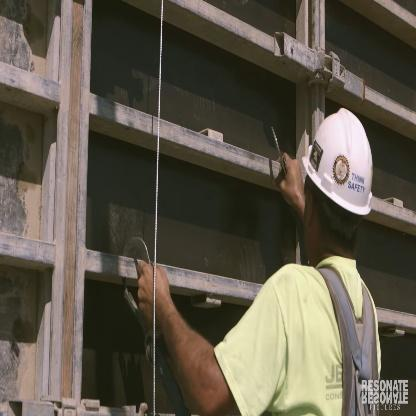helmet: (296, 102, 381, 264)
